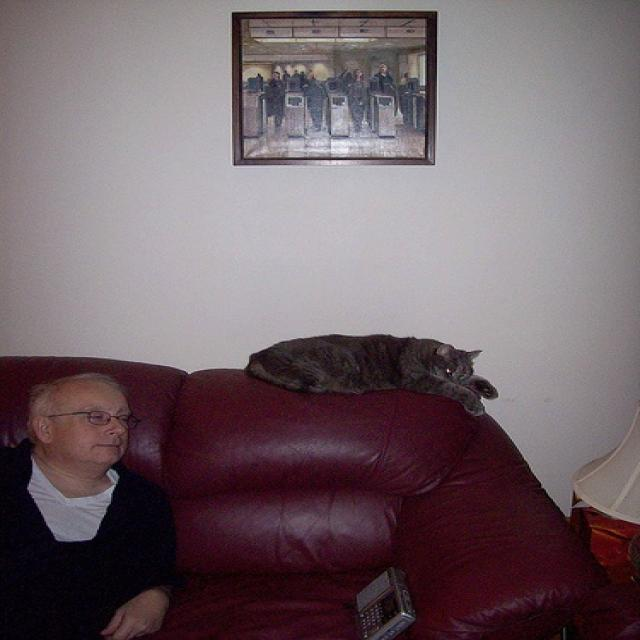cat: (246, 333, 498, 417)
sofa: (1, 354, 608, 638)
